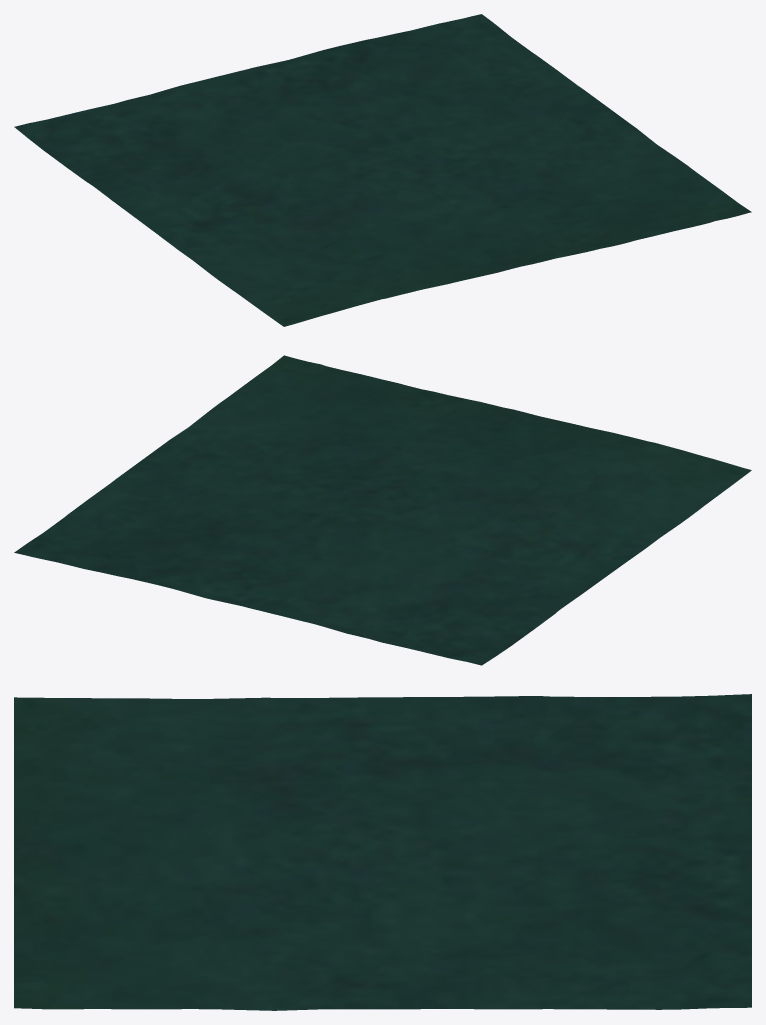
The picture shows the model from 3 angles, top to bottom: view 1: azimuth 30°, elevation 25°; view 2: azimuth 150°, elevation 25°; view 3: azimuth 270°, elevation 25°; orthographic projection. The views are drawn at different scales.
Size of the model in its own units: 52.22 by 0.9227 by 52.22.
2 materials, 2 textured.
